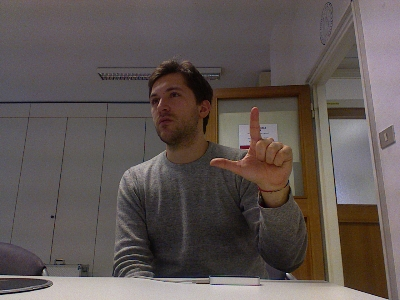枪: (206, 105, 292, 191)
